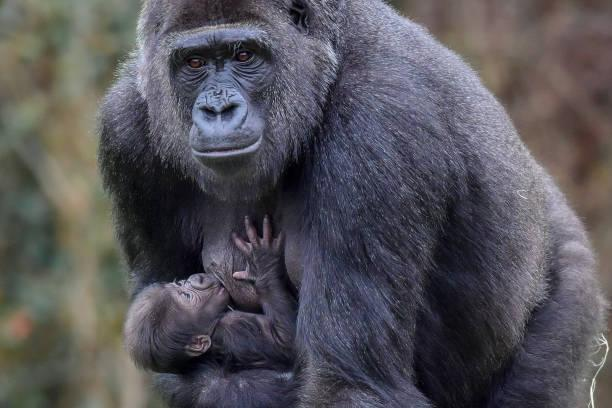gorille_Autres: (84, 0, 612, 408)
